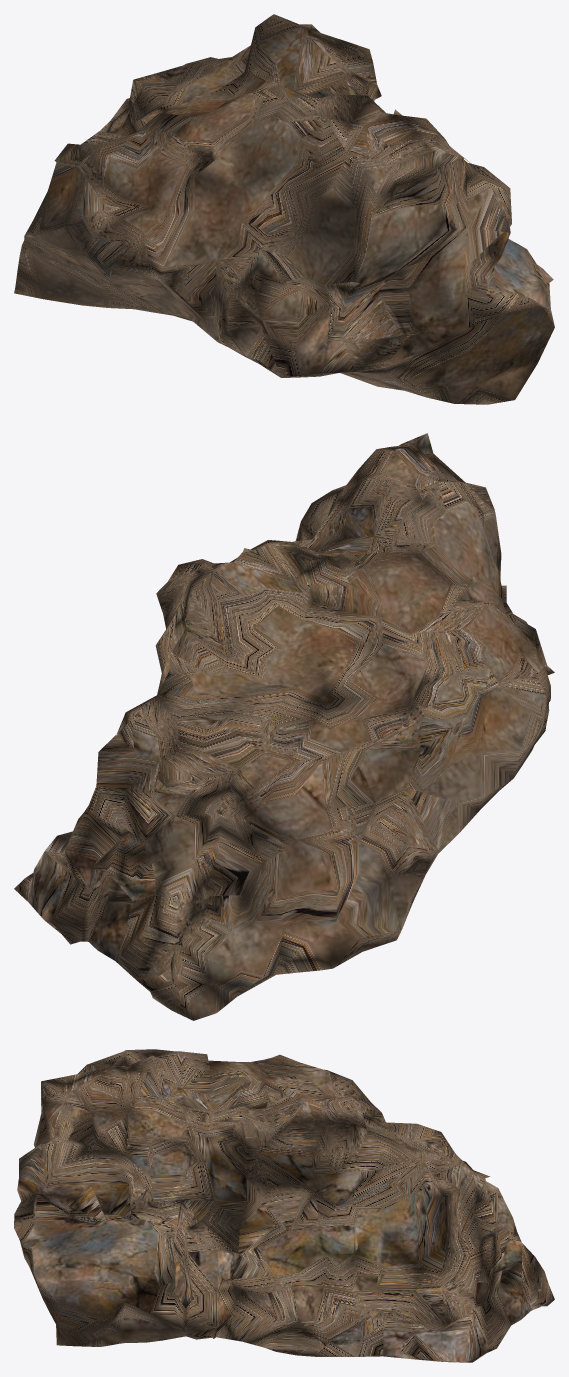
File: boulder.glb
3 views of the same model, one above another, from view 1: azimuth 30°, elevation 25°; view 2: azimuth 150°, elevation 25°; view 3: azimuth 270°, elevation 25° (orthographic). The views are drawn at different scales.
Visible parts, largest first — view 1: boulder_01; view 2: boulder_01; view 3: boulder_01.
Part boxes in pixels (x1,y1,x2,y2): boulder_01: (14, 14, 554, 404); boulder_01: (14, 433, 554, 1020); boulder_01: (14, 1049, 554, 1362).
Bounding box in the file's own units: 1.25 × 0.9856 × 1.81.
1 material, 1 textured.
